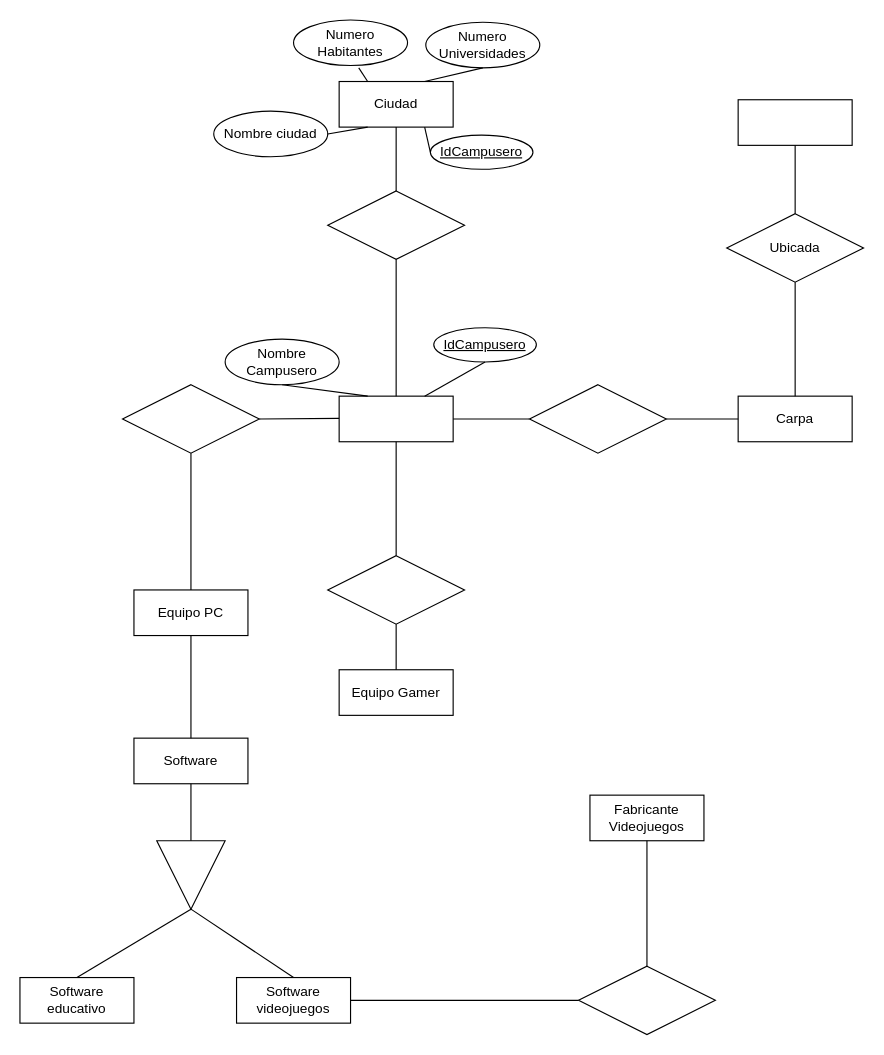
The diagram is 884 pixels wide and 1055 high, and some of its shapes have lost their labels. Each missing label, with the centre of its shape:
Campusero: the point at 395,418
Es: the point at 190,874
Fabricado: the point at 646,1000
Lleva: the point at 597,418
Pabellón: the point at 794,122
Pertenece: the point at 396,589
Tiene: the point at 190,418
Vive: the point at 396,224
